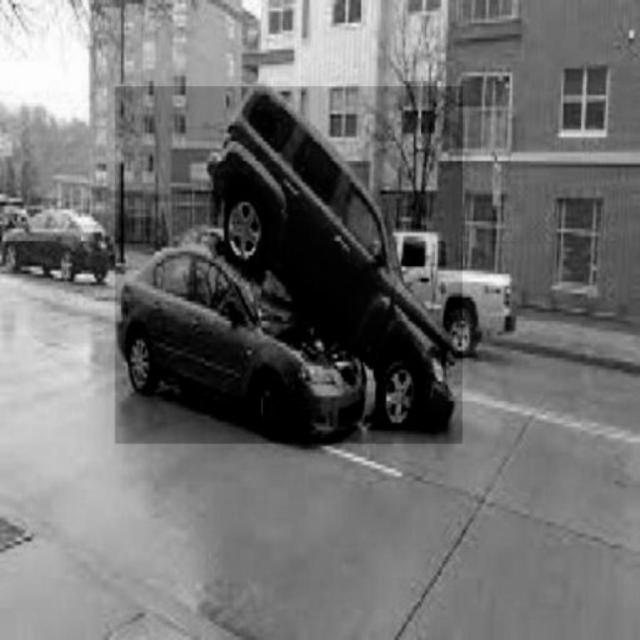accident: (115, 87, 462, 444)
vehicle: (2, 206, 110, 283)
